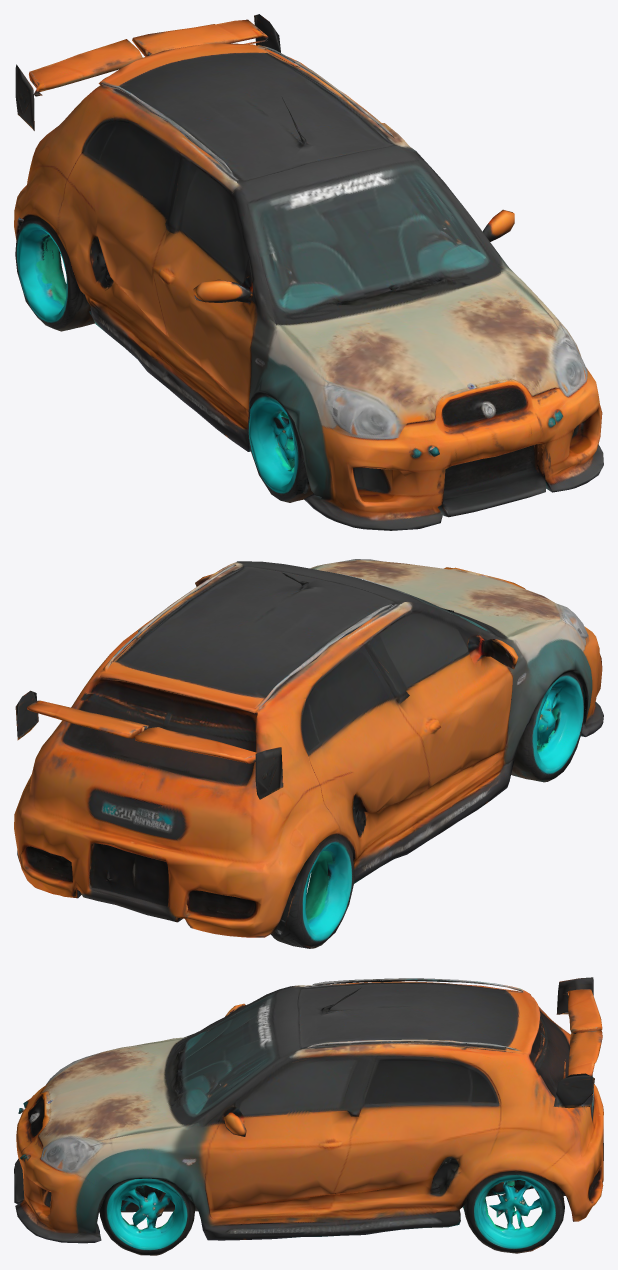
The model's file is Speed_Aesthetic_0714170948_texture.glb.
3 renders of one model, top to bottom at view 1: azimuth 30°, elevation 25°; view 2: azimuth 150°, elevation 25°; view 3: azimuth 270°, elevation 25°, orthographic. The views are drawn at different scales.
Size of the model in its own units: 0.9947 by 0.809 by 2.
1 material, 1 textured.
